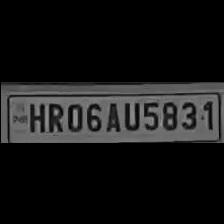0: (64, 98, 82, 132)
1: (200, 96, 216, 130)
3: (178, 96, 198, 130)
5: (140, 97, 158, 131)
6: (82, 98, 102, 132)
8: (159, 96, 177, 130)
A: (102, 97, 120, 132)
H: (25, 98, 45, 132)
R: (43, 99, 62, 133)
U: (121, 97, 139, 130)
